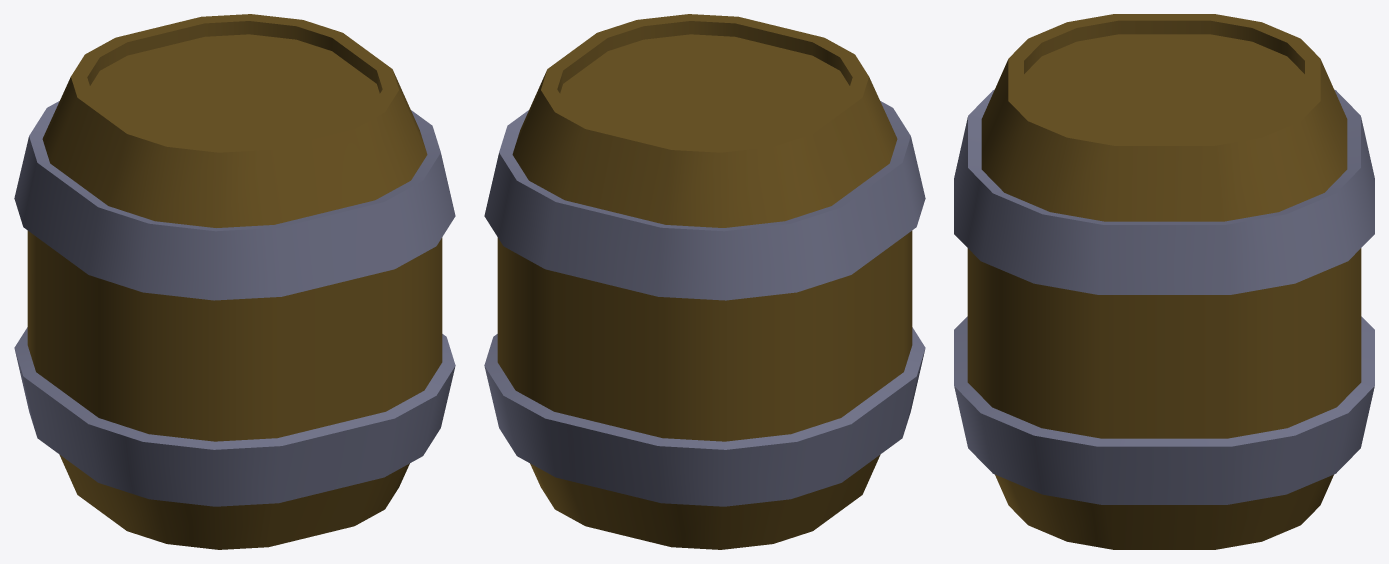
Rendered from Barrel.fbx.
3 views of the same model, side by side, from view 1: azimuth 30°, elevation 25°; view 2: azimuth 150°, elevation 25°; view 3: azimuth 270°, elevation 25° (orthographic).
Visible parts, largest first — view 1: pCube358; view 2: pCube358; view 3: pCube358.
Part boxes in pixels (left/top/right/bottom): pCube358: left=14, top=14, right=455, bottom=549; pCube358: left=484, top=14, right=925, bottom=549; pCube358: left=954, top=14, right=1374, bottom=549.
Size of the model in its own units: 1.88 by 1.99 by 1.88.
